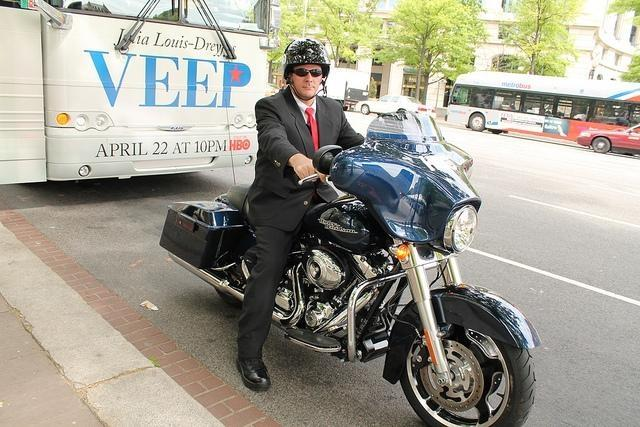bus: (0, 2, 276, 188), (444, 71, 640, 154)
car: (576, 123, 640, 156), (354, 95, 436, 119)
motorcycle: (156, 99, 544, 421)
